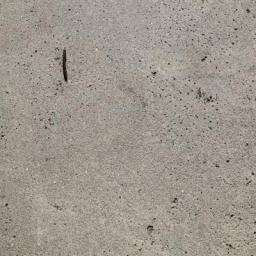FOD: (59, 46, 74, 85)
